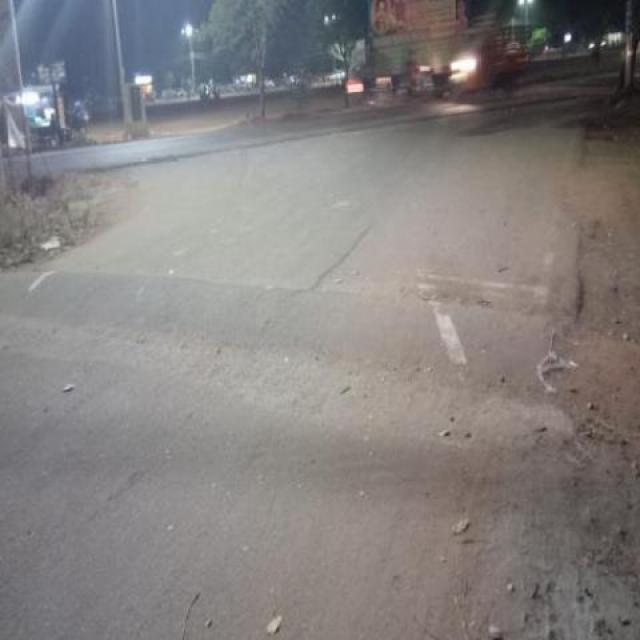Unmarked Bump: (0, 353, 595, 528), (0, 240, 559, 386)
